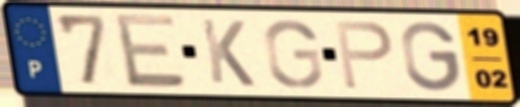7: (51, 12, 112, 87)
E: (111, 11, 190, 90)
G: (398, 19, 463, 94), (261, 18, 325, 91)
K: (197, 16, 258, 89)
P: (331, 18, 396, 92)
